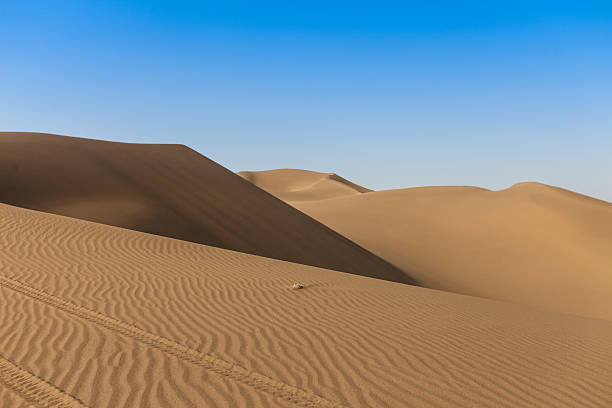vehicle_track: (0, 276, 342, 407), (0, 356, 85, 407)
